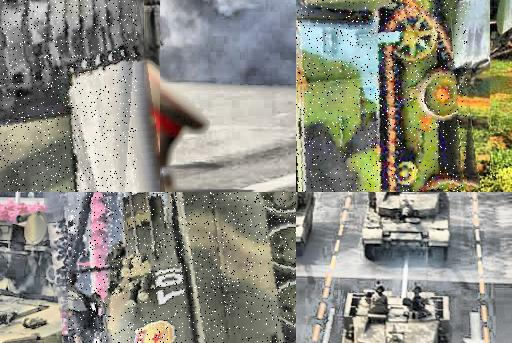tanks: (69, 193, 297, 343), (297, 1, 468, 193), (1, 1, 137, 193), (343, 288, 453, 343), (363, 193, 452, 260)
